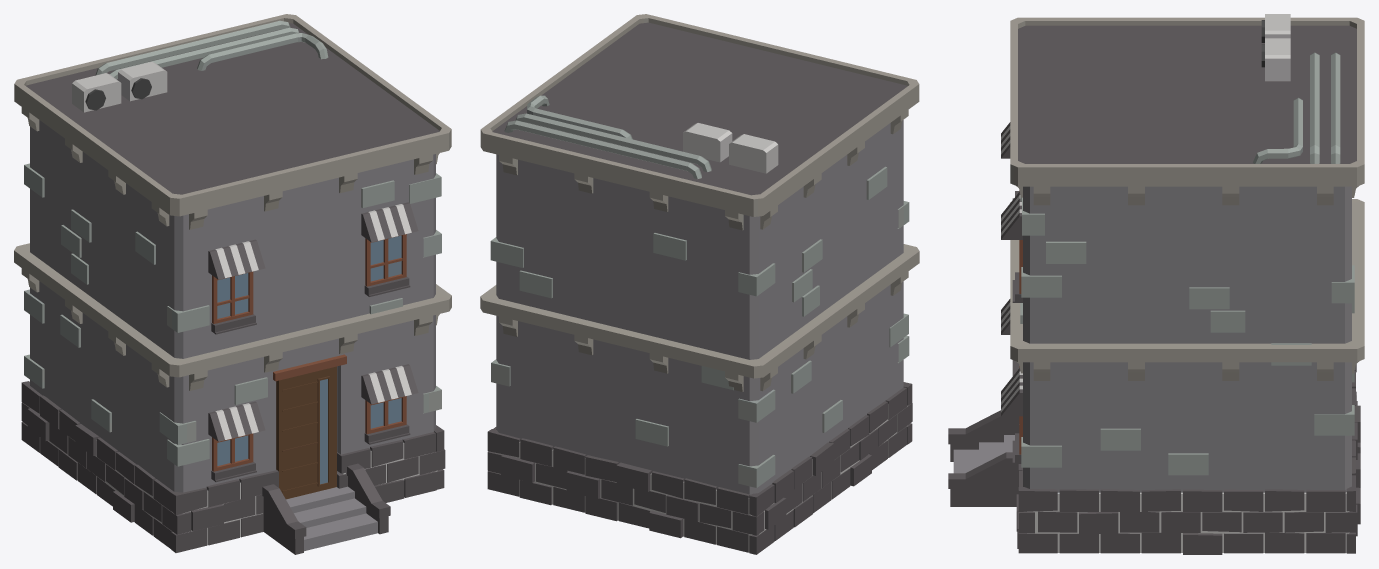
Rendered from 2Story.glb.
3 renders of one model, left to right at view 1: azimuth 30°, elevation 25°; view 2: azimuth 150°, elevation 25°; view 3: azimuth 270°, elevation 25°, orthographic. The views are drawn at different scales.
Parts seen in each view (by area): view 1: 2Story; view 2: 2Story; view 3: 2Story.
Part boxes in pixels (bbox=[...]): 2Story: bbox=[14, 14, 451, 554]; 2Story: bbox=[480, 14, 919, 554]; 2Story: bbox=[948, 14, 1364, 554].
Size of the model in its own units: 5.18 by 6.59 by 6.08.
1 material, 1 textured.
